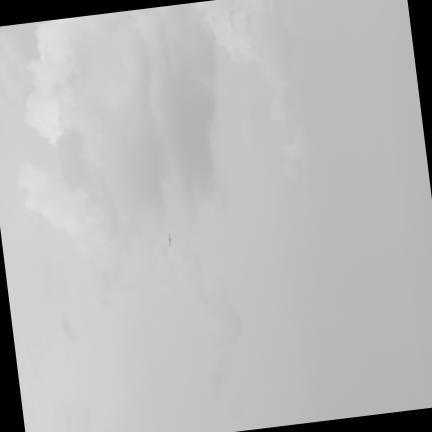Shahed: (168, 233, 170, 244)
